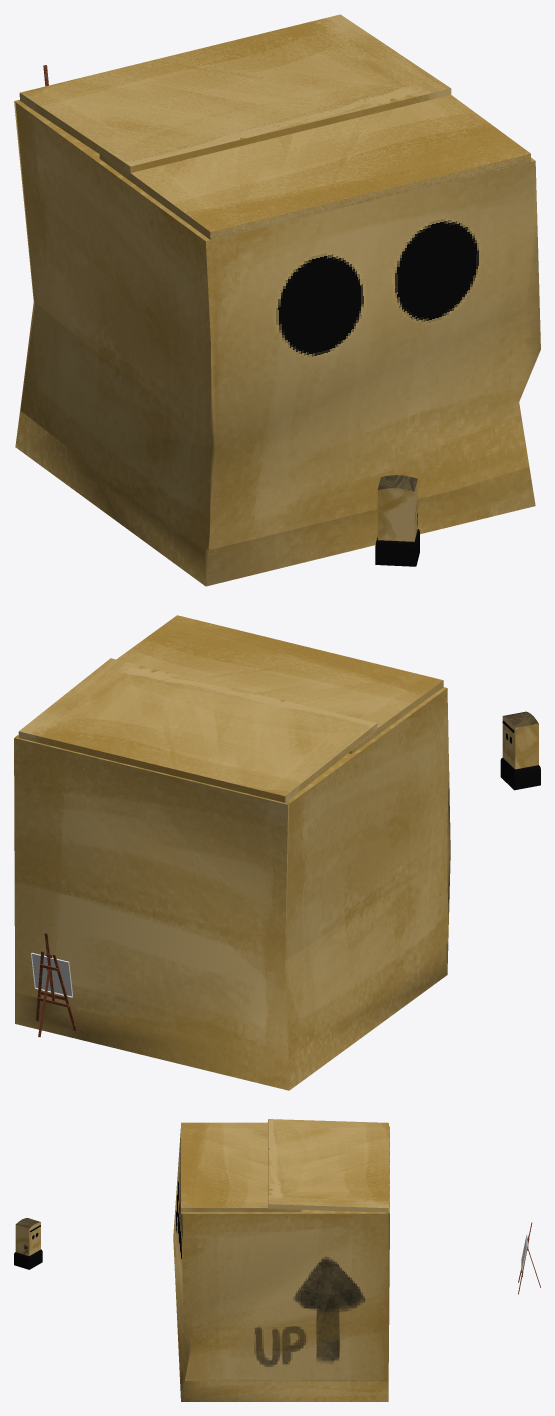
File: NewBoxPrpject+box.glb
The picture shows the model from 3 angles, top to bottom: view 1: azimuth 30°, elevation 25°; view 2: azimuth 150°, elevation 25°; view 3: azimuth 270°, elevation 25°; orthographic projection. The views are drawn at different scales.
Parts seen in each view (by area): view 1: eyeSide, leftSide, backCover, frontCover, boxBase, Box001__0; view 2: backSide, leftSide, backCover, frontCover, boxBase, Box001__0, painttablestand, projectstables; view 3: upSide, backCover, frontCover, boxBase, eyeSide, Box001__0, backSide.
Boxes of the visible parts, left/top/right/bottom form: eyeSide: left=206, top=159, right=540, bottom=549; leftSide: left=15, top=102, right=211, bottom=549; backCover: left=19, top=14, right=451, bottom=173; frontCover: left=99, top=95, right=530, bottom=239; boxBase: left=15, top=410, right=535, bottom=586; Box001__0: left=375, top=475, right=419, bottom=566; backSide: left=14, top=737, right=288, bottom=1057; leftSide: left=285, top=688, right=448, bottom=1057; backCover: left=18, top=658, right=377, bottom=802; frontCover: left=116, top=615, right=443, bottom=753; boxBase: left=15, top=943, right=448, bottom=1090; Box001__0: left=500, top=711, right=540, bottom=790; painttablestand: left=36, top=933, right=76, bottom=1037; projectstables: left=31, top=952, right=73, bottom=997; upSide: left=182, top=1210, right=388, bottom=1381; backCover: left=268, top=1119, right=388, bottom=1212; frontCover: left=181, top=1122, right=301, bottom=1212; boxBase: left=179, top=1359, right=388, bottom=1401; eyeSide: left=173, top=1129, right=190, bottom=1380; Box001__0: left=14, top=1218, right=42, bottom=1269; backSide: left=387, top=1126, right=389, bottom=1362.
Bounding box in the file's own units: 1.89 × 1.93 × 4.7.
20 materials, 9 textured.
